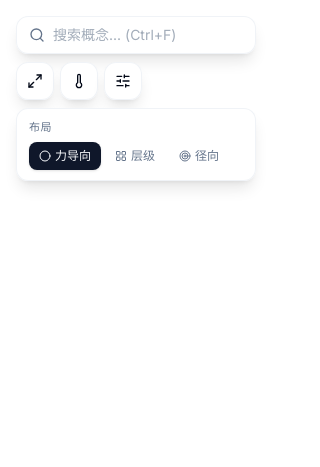
GraphControls › shows filter panel when filter toggle is clicked
The width and height of the screenshot is (320, 467).
Click the button with test id "filter-toggle".
click(123, 81)  # box x1=104 y1=62 x2=142 y2=100
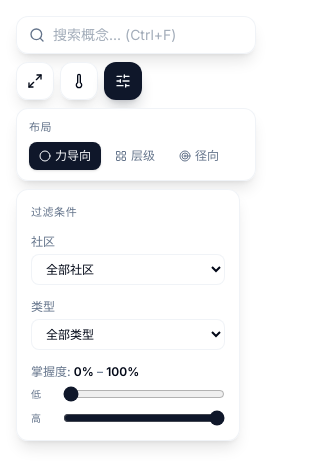
Expected: the element with test id "filter-panel" is shown, x1=16 y1=188 x2=240 y2=441
